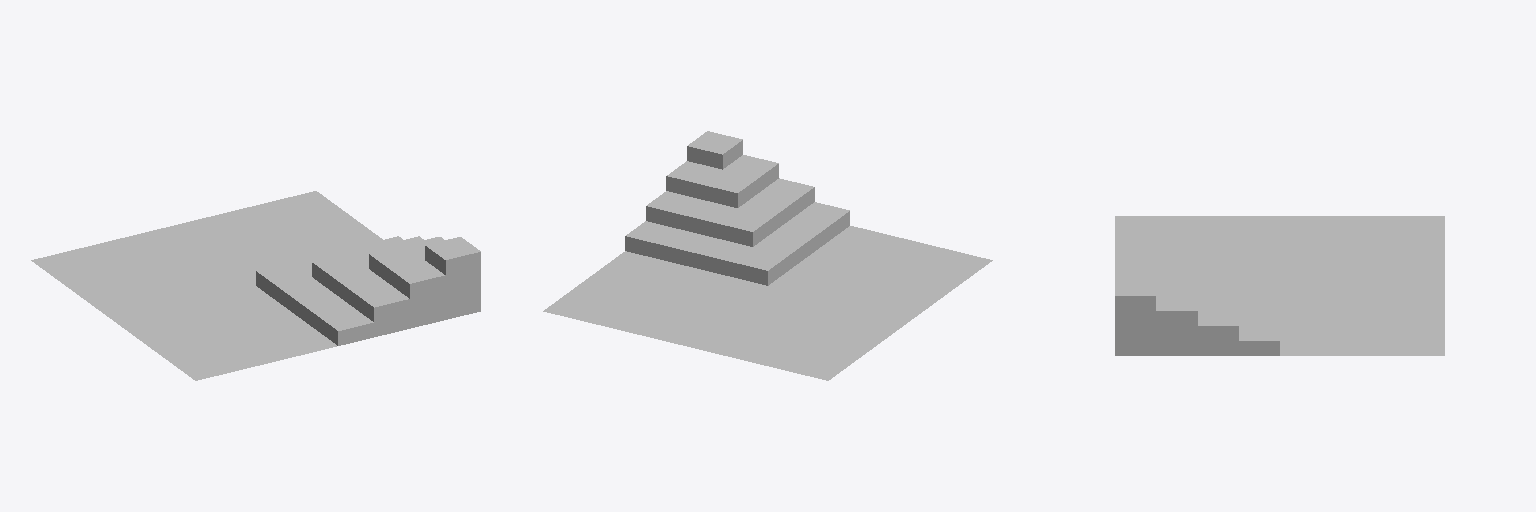
The model's file is floor-steps-corner-outer.obj.
The picture shows the model from 3 angles: view 1: azimuth 30°, elevation 25°; view 2: azimuth 150°, elevation 25°; view 3: azimuth 270°, elevation 25°; orthographic projection.
Parts seen in each view (by area): view 1: floor-steps-corner-outer; view 2: floor-steps-corner-outer; view 3: floor-steps-corner-outer.
Boxes of the visible parts, <box> form: floor-steps-corner-outer: <box>31,191,480,380</box>; floor-steps-corner-outer: <box>543,131,992,380</box>; floor-steps-corner-outer: <box>1115,216,1444,355</box>.
Size of the model in its own units: 1 by 0.2 by 1.